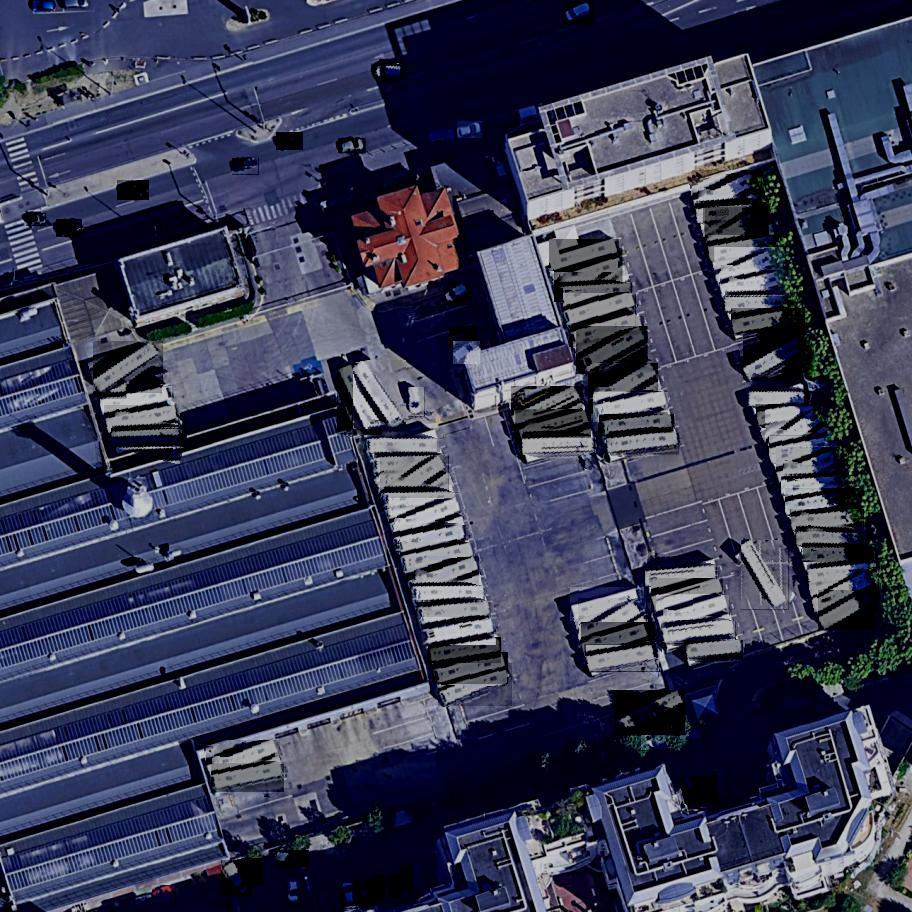large-vehicle: (555, 248, 624, 304), (380, 455, 449, 510), (588, 362, 659, 414), (353, 361, 406, 430), (93, 341, 162, 394), (576, 325, 648, 375), (579, 598, 648, 650), (741, 541, 791, 610), (439, 663, 513, 709), (337, 364, 384, 436), (744, 334, 813, 383), (615, 690, 685, 738), (692, 169, 763, 216), (512, 386, 584, 432), (705, 207, 771, 256), (811, 569, 880, 614), (777, 447, 849, 490), (206, 741, 280, 782), (389, 499, 463, 540), (767, 407, 827, 457), (715, 247, 784, 290), (406, 556, 480, 595), (657, 596, 731, 634), (581, 623, 656, 660), (564, 293, 638, 329), (516, 410, 592, 445), (571, 587, 644, 623), (433, 652, 508, 686), (652, 578, 724, 612), (593, 392, 669, 423), (818, 589, 874, 631), (569, 316, 644, 347), (105, 405, 180, 436), (719, 270, 791, 302), (549, 240, 621, 271), (100, 387, 175, 416), (399, 542, 474, 571), (786, 488, 861, 517), (769, 436, 842, 465), (421, 618, 496, 646), (211, 765, 285, 793), (393, 525, 467, 553), (731, 309, 805, 336), (708, 235, 778, 263), (586, 646, 661, 672), (428, 638, 502, 664), (599, 415, 675, 438), (792, 509, 864, 533), (807, 562, 878, 586), (606, 433, 680, 456), (662, 622, 736, 645), (416, 603, 491, 623), (697, 203, 768, 224), (646, 565, 717, 586), (111, 428, 185, 448), (559, 283, 632, 303), (781, 476, 853, 496), (373, 455, 445, 474), (756, 405, 815, 428), (522, 438, 594, 455), (796, 531, 867, 548), (724, 296, 793, 313), (684, 641, 743, 660), (385, 493, 456, 508), (804, 547, 874, 562), (411, 587, 484, 601), (367, 440, 439, 453), (749, 390, 806, 406)
small-vehicle: (222, 861, 253, 897), (564, 0, 594, 25), (694, 777, 719, 805), (453, 340, 481, 365), (118, 180, 149, 201), (449, 327, 478, 349), (353, 880, 376, 907), (443, 283, 469, 306), (276, 851, 310, 868), (682, 776, 701, 806), (243, 858, 263, 886), (98, 382, 129, 400), (56, 220, 85, 238), (153, 885, 178, 905), (408, 387, 424, 418), (376, 64, 403, 82), (277, 133, 304, 151), (642, 735, 668, 753), (342, 883, 359, 910), (430, 129, 457, 146), (232, 159, 260, 175), (458, 121, 484, 138), (339, 139, 366, 155), (335, 845, 359, 861), (713, 770, 726, 797), (414, 864, 426, 889), (287, 880, 299, 903), (374, 876, 385, 900), (401, 865, 412, 889), (390, 875, 401, 897), (26, 214, 46, 226), (681, 730, 702, 739)
